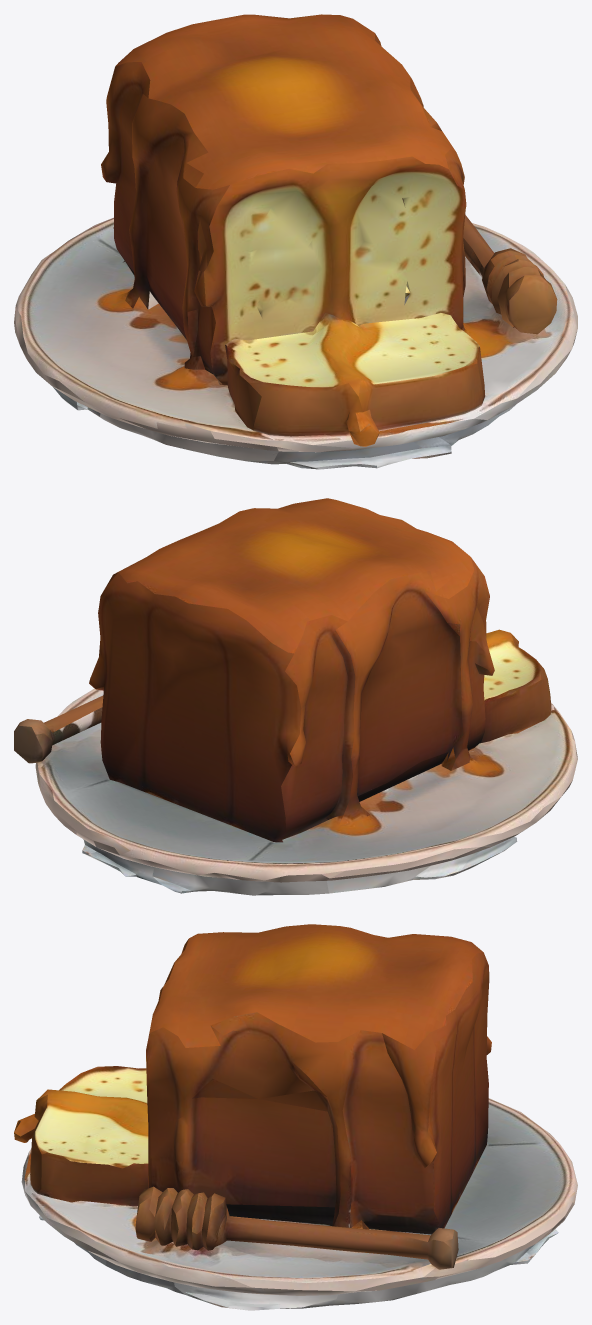
Rendered from honey_cake.glb.
The picture shows the model from 3 angles, top to bottom: view 1: azimuth 30°, elevation 25°; view 2: azimuth 150°, elevation 25°; view 3: azimuth 270°, elevation 25°; orthographic projection. The views are drawn at different scales.
Parts seen in each view (by area): view 1: honey_cake; view 2: honey_cake; view 3: honey_cake.
Boxes of the visible parts, bbox=[...] form: honey_cake: bbox=[14, 14, 577, 469]; honey_cake: bbox=[14, 498, 577, 895]; honey_cake: bbox=[14, 924, 577, 1310].
Bounding box in the file's own units: 0.9323 × 0.4978 × 1.
Materials: 1 (1 with a texture image).
